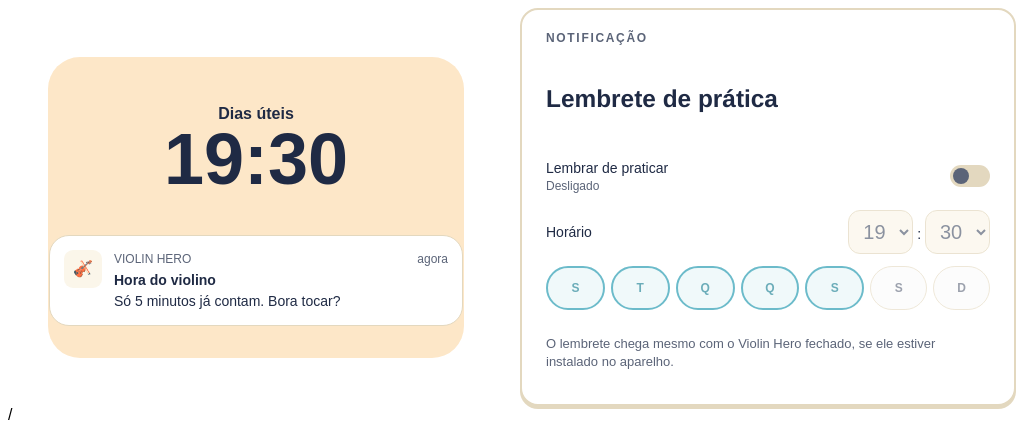
it: Reminder › permissão negada: continua desligado e explica
Click the switch labelled "Lembrar de praticar Desligado".
click(970, 176)  # box [948, 154, 992, 198]
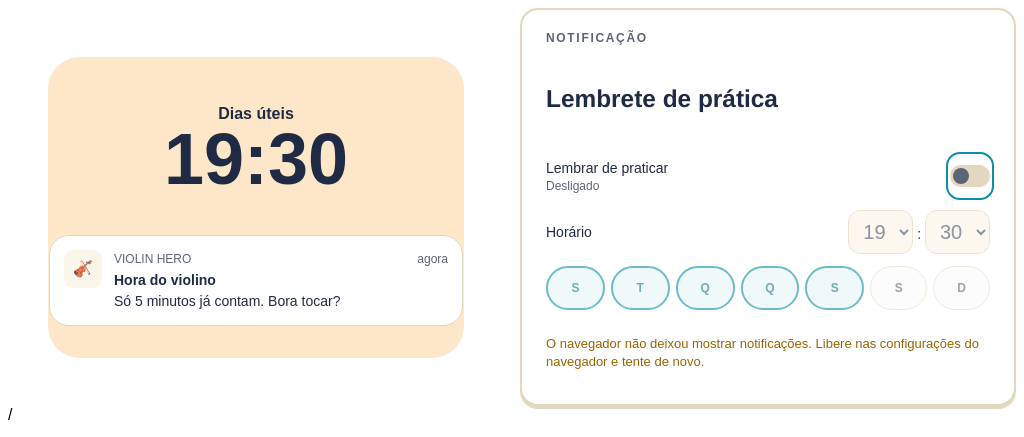
Result: the message shows "não deixou mostrar notificações" at [546, 336, 979, 369]
